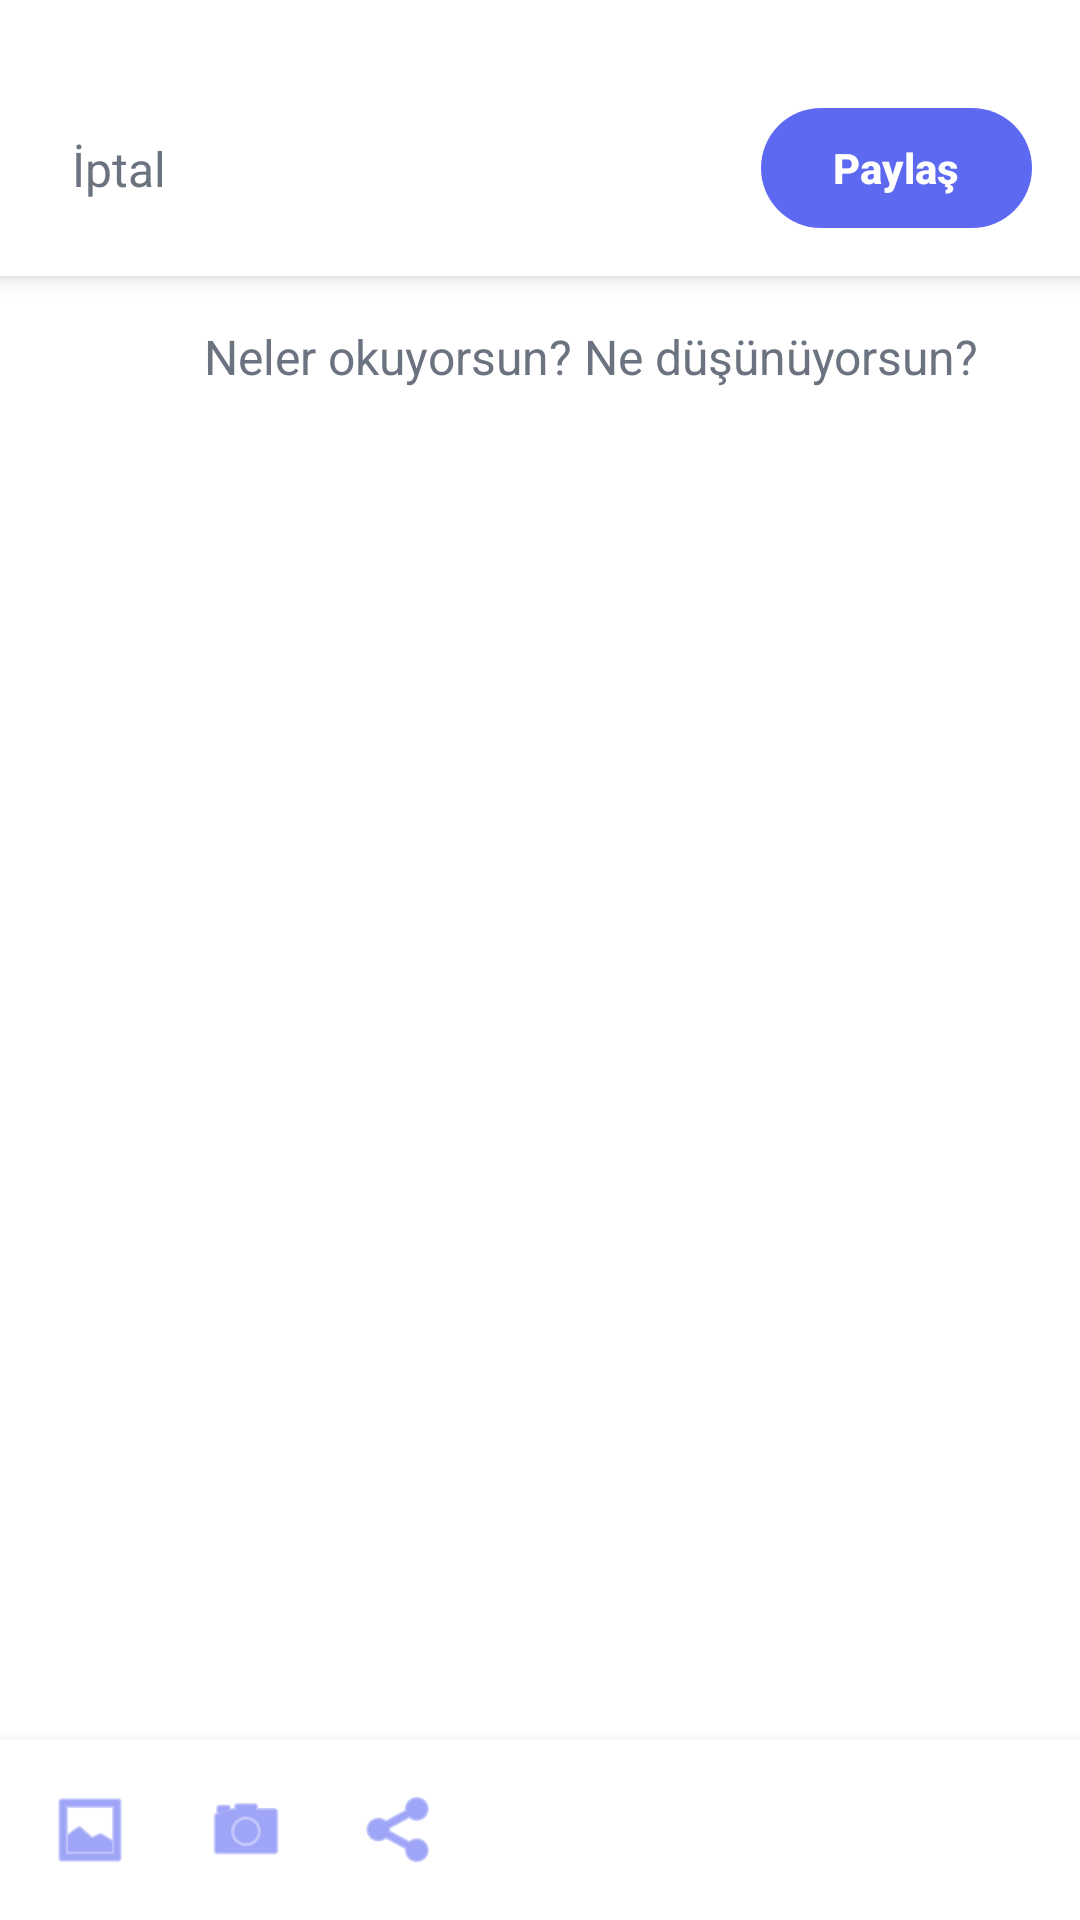

Named icons in this screenshot (1080×1920) and their centers, [x,y]:
camera: [246,1828]
gallery: [90,1830]
share: [397,1829]
